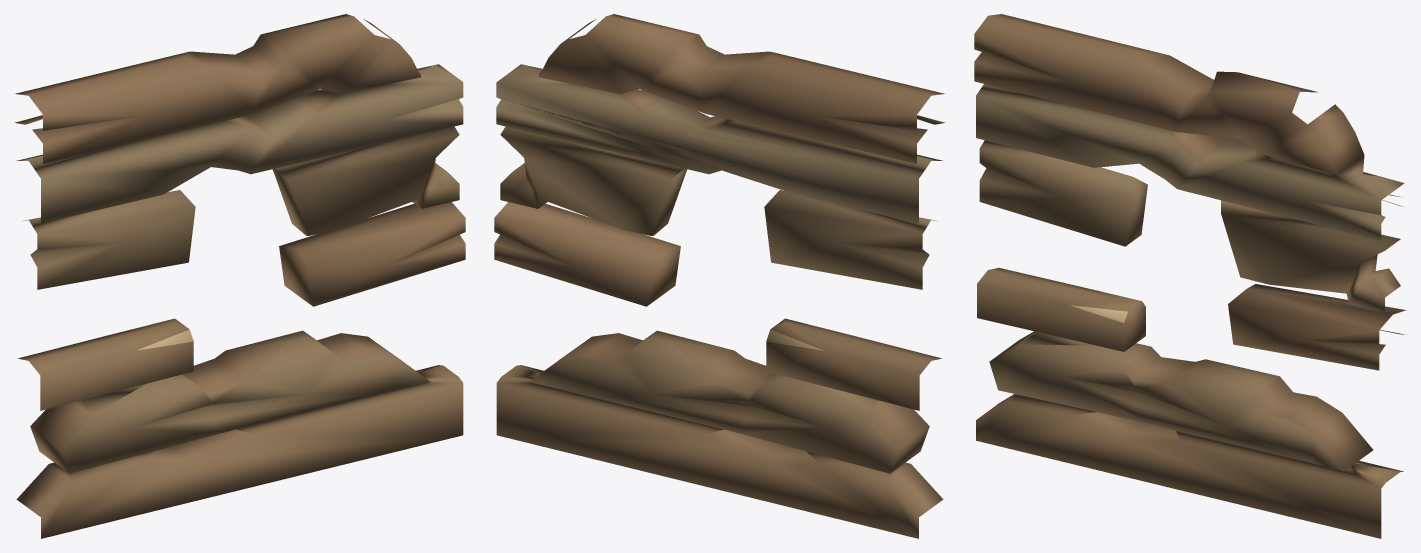
Rendered from rpgpp_av_wall_01_3x3_window_02a.gltf.
The picture shows the model from 3 angles, left to right: view 1: azimuth 30°, elevation 25°; view 2: azimuth 150°, elevation 25°; view 3: azimuth 330°, elevation 25°; orthographic projection. The views are drawn at different scales.
Visible parts, largest first — view 1: rpgpp_av_wall_01_3x3_window_02a; view 2: rpgpp_av_wall_01_3x3_window_02a; view 3: rpgpp_av_wall_01_3x3_window_02a.
Boxes of the visible parts, x1=… form: rpgpp_av_wall_01_3x3_window_02a: x1=14, y1=14, x2=465, y2=538; rpgpp_av_wall_01_3x3_window_02a: x1=494, y1=14, x2=945, y2=538; rpgpp_av_wall_01_3x3_window_02a: x1=974, y1=14, x2=1406, y2=538.
Bounding box in the file's own units: 0.03 × 0.03 × 0.00374.
1 material, 1 textured.
